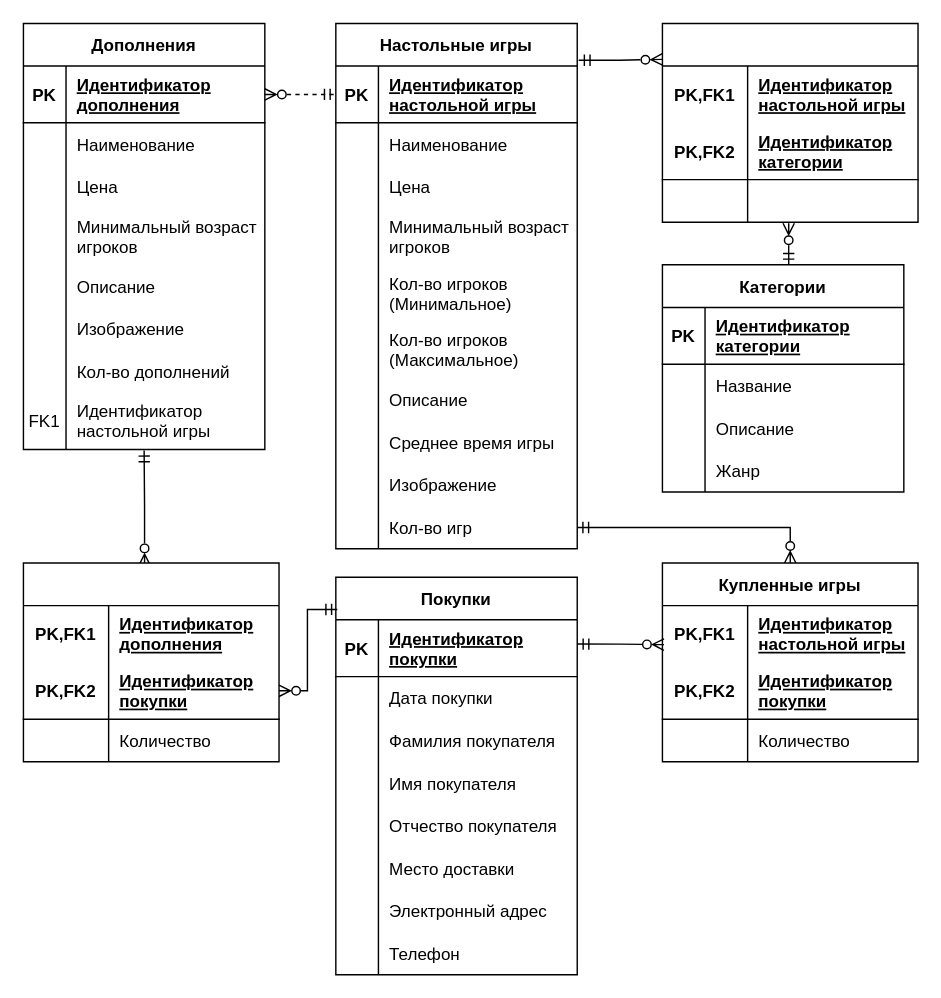
This 941x998 diagram has some shape labels left out. Each missing label, with the box of its shape:
Категория настольной игры: (661, 22, 918, 222)
Купленные дополнения: (22, 562, 279, 762)
